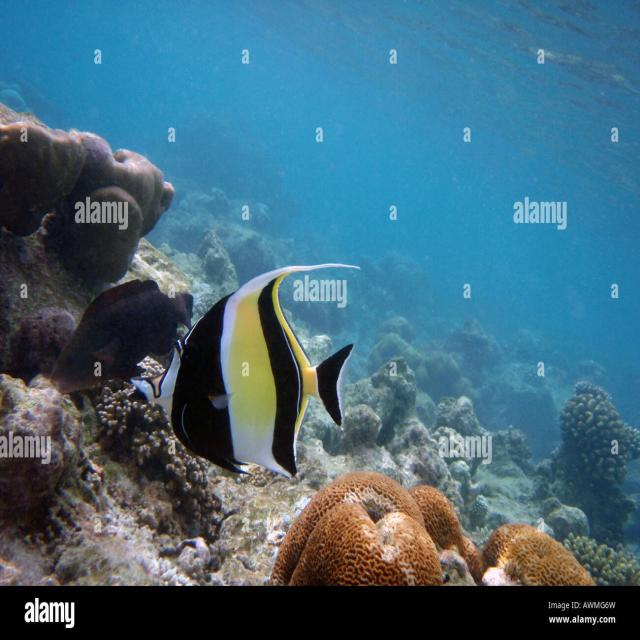MorishIdol: (127, 261, 360, 482)
